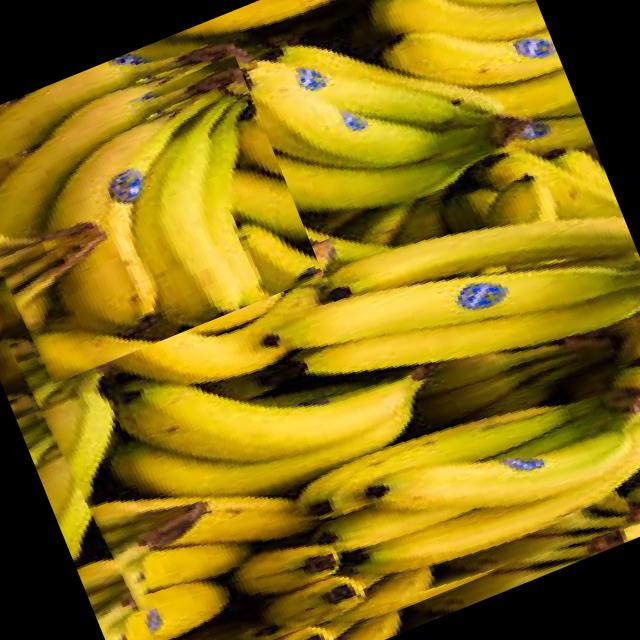Organic: (0, 0, 640, 640), (0, 53, 322, 388)
